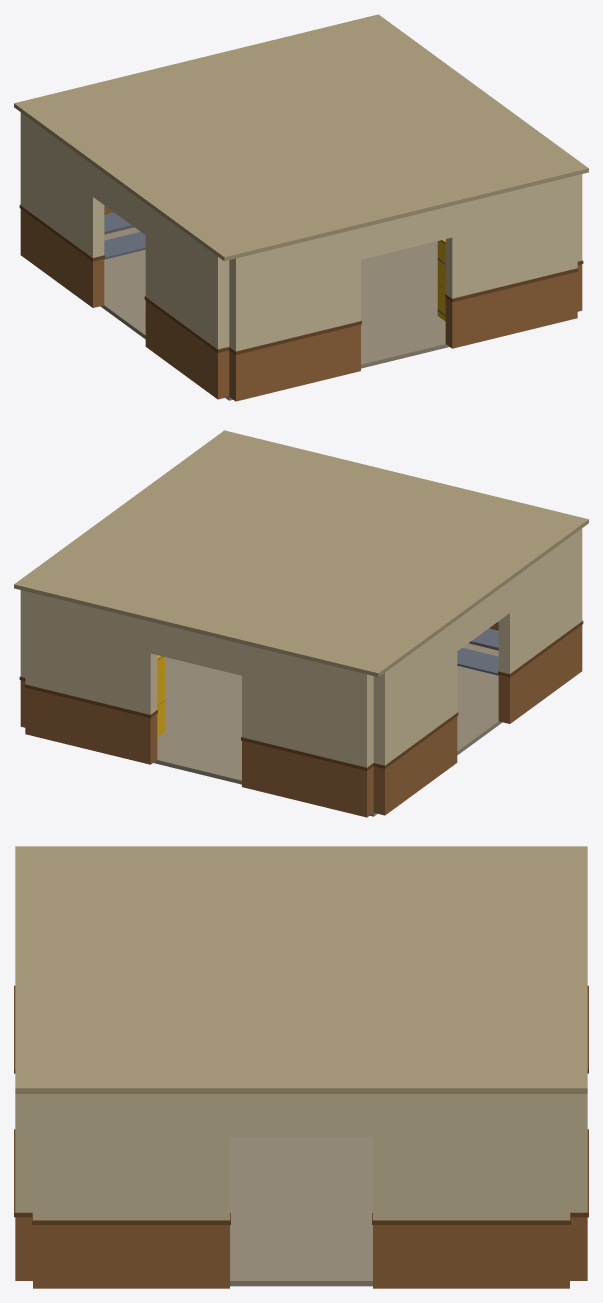
Rendered from room_shared_storage_small.glb.
The picture shows the model from 3 angles, top to bottom: view 1: azimuth 30°, elevation 25°; view 2: azimuth 150°, elevation 25°; view 3: azimuth 270°, elevation 25°; orthographic projection. The views are drawn at different scales.
Visible parts, largest first — view 1: room_shared_storage_small; view 2: room_shared_storage_small; view 3: room_shared_storage_small.
Part boxes in pixels (x1,y1,x2,y2): room_shared_storage_small: [14, 14, 588, 401]; room_shared_storage_small: [14, 430, 588, 817]; room_shared_storage_small: [14, 846, 588, 1288].
Bounding box in the file's own units: 9.62 × 3.8 × 9.64.
Materials: 1 (1 with a texture image).
